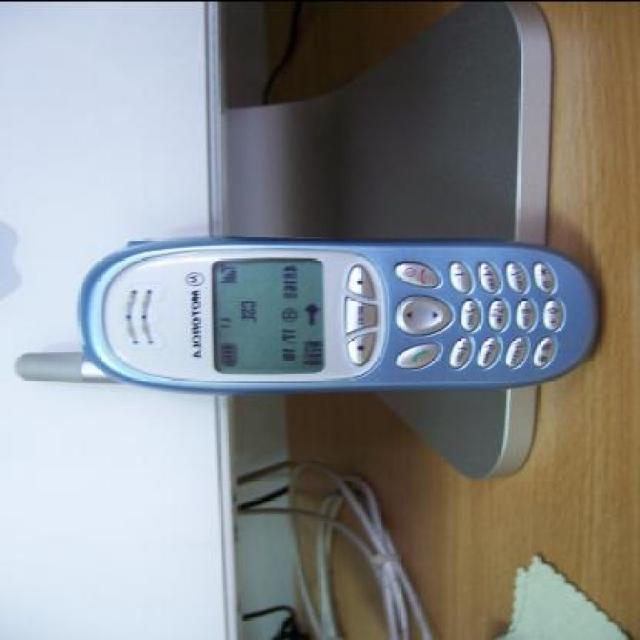phone: (12, 232, 600, 396)
